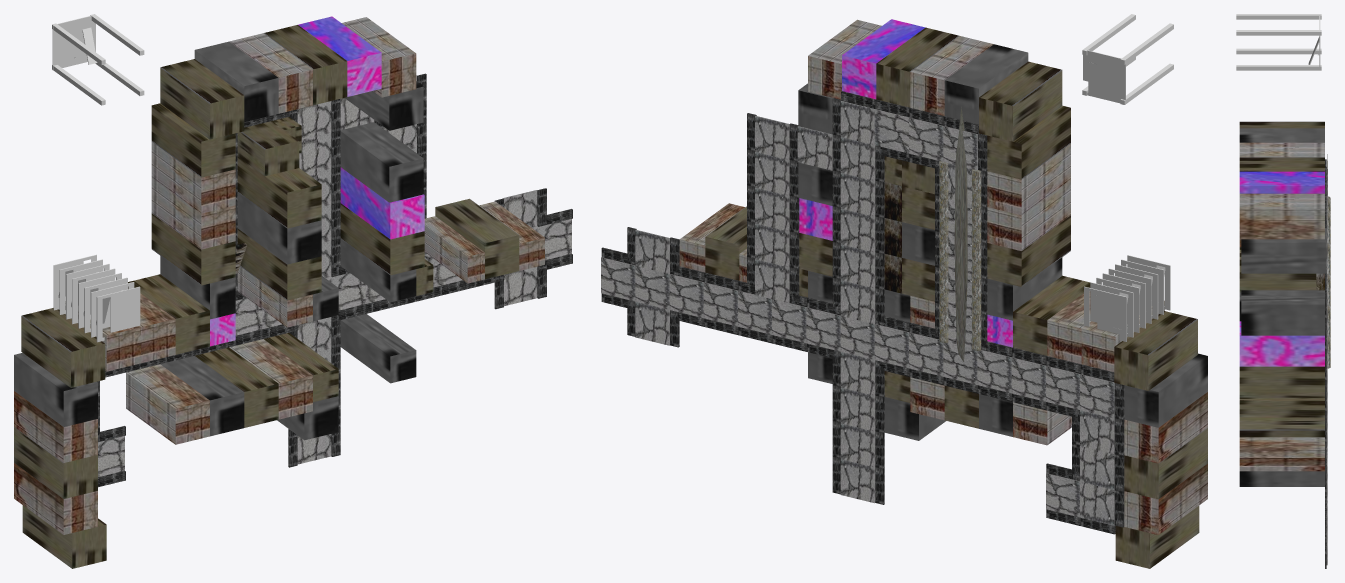
Rendered from xxity2.glb.
3 renders of one model, left to right at view 1: azimuth 30°, elevation 25°; view 2: azimuth 150°, elevation 25°; view 3: azimuth 270°, elevation 25°, orthographic. The views are drawn at different scales.
Parts seen in each view (by area): view 1: Cube.196, Cube.181, Cube.211, Cube.234, Cube.065, Cube.188, Cube.235, Cube.190, Cube.213, Cube.207, Cube.210, Cube.142 (+42 smaller); view 2: Cube.196, Cube.234, Cube.188, Cube.235, Cube.190, Cube.237, Cube.189, Cube.236, Cube.238, Cube.187, Cube.186, Cube.193 (+68 smaller); view 3: Cube.195, Cube.211, Cube.194, Cube.216, Cube.210, Cube.209, Cube.192, Cube.213, Cube.214, Cube.065, Cube.207, Cube.191 (+8 smaller).
Part boxes in pixels (bbox=[...]): Cube.196: bbox=[160, 59, 244, 139]; Cube.181: bbox=[126, 364, 209, 444]; Cube.211: bbox=[340, 122, 423, 202]; Cube.234: bbox=[21, 308, 105, 387]; Cube.065: bbox=[237, 157, 321, 228]; Cube.188: bbox=[151, 103, 235, 177]; Cube.235: bbox=[14, 353, 97, 426]; Cube.190: bbox=[194, 41, 278, 121]; Cube.213: bbox=[435, 198, 519, 279]; Cube.207: bbox=[340, 314, 416, 383]; Cube.210: bbox=[340, 167, 424, 239]; Cube.142: bbox=[237, 193, 321, 264]; Cube.196: bbox=[979, 61, 1062, 141]; Cube.234: bbox=[1114, 311, 1197, 390]; Cube.188: bbox=[987, 105, 1070, 179]; Cube.235: bbox=[1124, 353, 1207, 427]; Cube.190: bbox=[944, 44, 1028, 124]; Cube.237: bbox=[1124, 392, 1207, 463]; Cube.189: bbox=[987, 144, 1070, 215]; Cube.236: bbox=[1124, 427, 1207, 499]; Cube.238: bbox=[1124, 463, 1207, 535]; Cube.187: bbox=[987, 179, 1070, 250]; Cube.186: bbox=[987, 215, 1070, 286]; Cube.193: bbox=[876, 27, 959, 107]; Cube.195: bbox=[1239, 193, 1324, 239]; Cube.211: bbox=[1241, 290, 1324, 335]; Cube.194: bbox=[1241, 228, 1326, 273]; Cube.216: bbox=[1239, 437, 1324, 471]; Cube.210: bbox=[1239, 321, 1324, 366]; Cube.209: bbox=[1239, 366, 1324, 397]; Cube.192: bbox=[1239, 171, 1324, 193]; Cube.213: bbox=[1239, 415, 1324, 437]; Cube.214: bbox=[1239, 397, 1324, 415]; Cube.065: bbox=[1239, 247, 1316, 292]; Cube.207: bbox=[1239, 471, 1324, 486]; Cube.191: bbox=[1239, 142, 1324, 157].
Size of the model in its own units: 1300 by 1118 by 221.
Materials: 45 (45 with a texture image).
